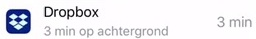name: (38, 2, 105, 21)
time: (43, 25, 77, 39)
